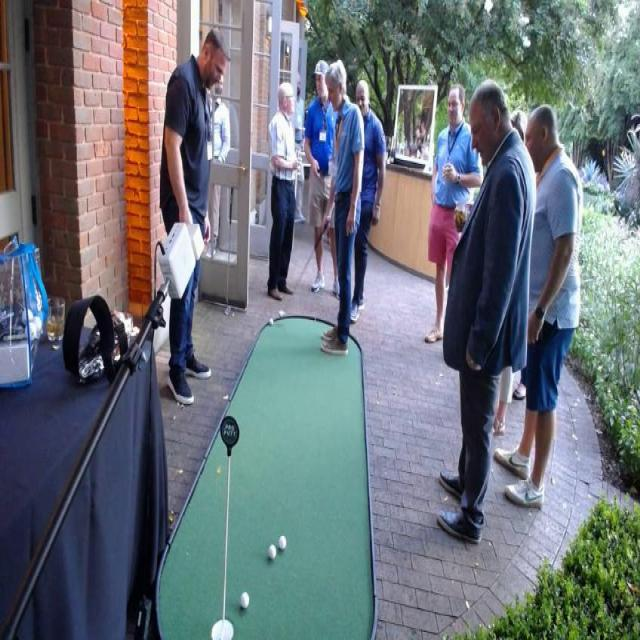GolfBall: (234, 588, 253, 612), (264, 540, 277, 563), (277, 530, 289, 552), (264, 310, 275, 332)
